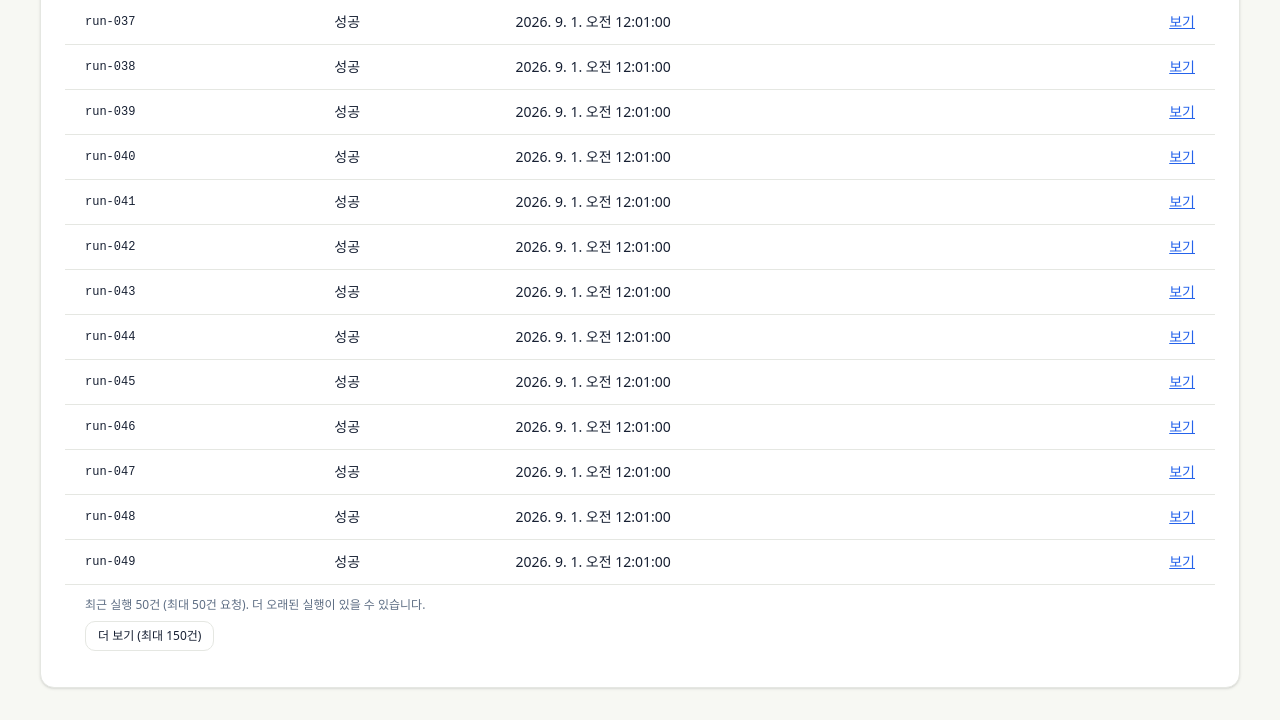
Test case: Table Detail run view: show more (#653) › keeps the loaded runs and says why when the larger page is refused
The image size is (1280, 720).
(page scrolled)
Expected: the text "run-049" is shown, [65,540,314,584]
Click the button "더 보기 (최대 150건)" at (150, 636), box [85,621,214,651]
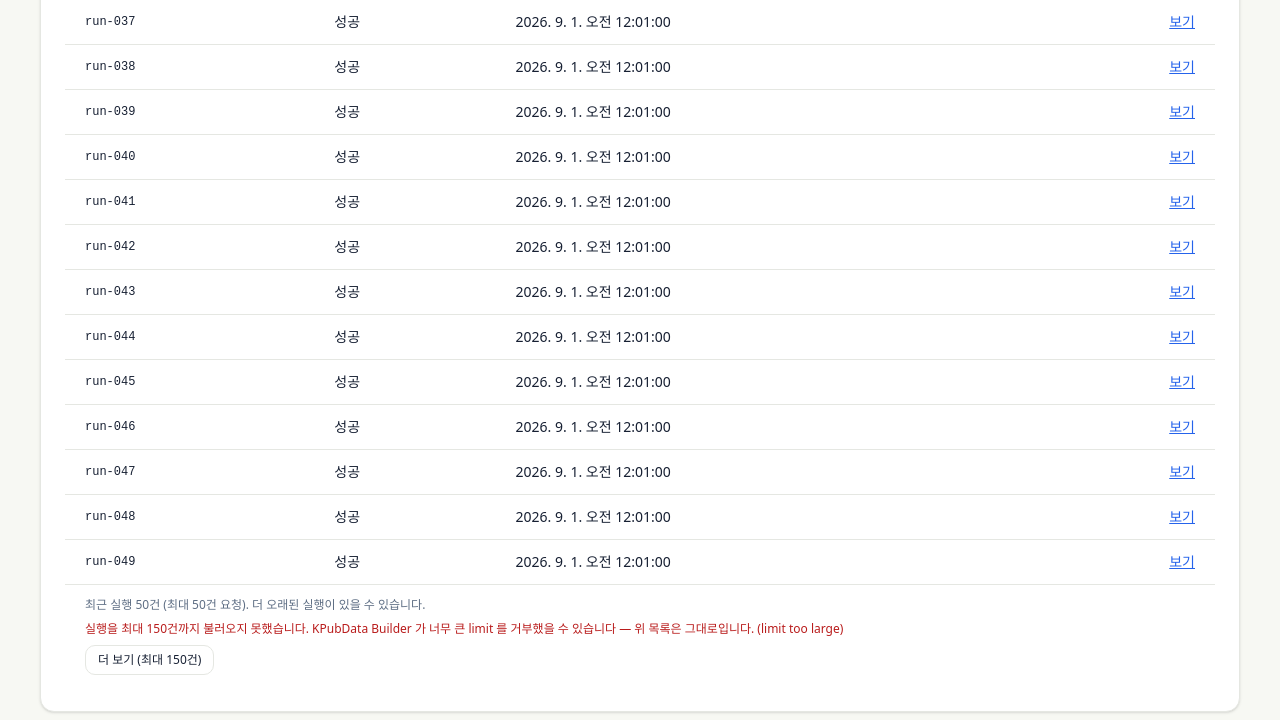
Expected: the text "run-049" is shown, [65,540,314,584]
Now the message shows "너무 큰 limit", box [85,620,754,637]
